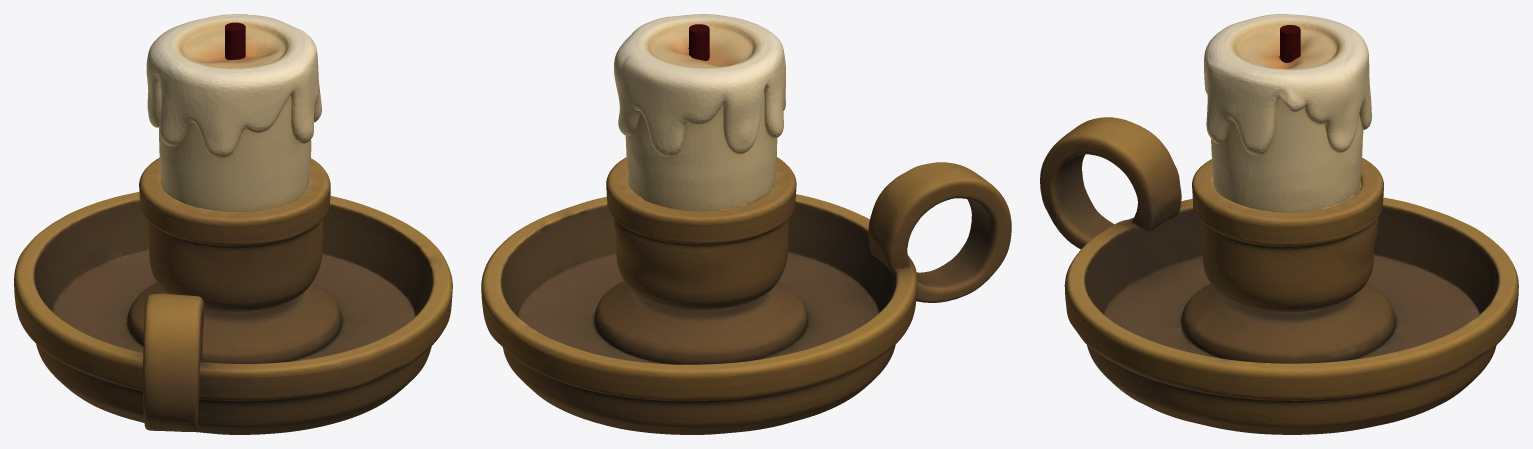
The model's file is candle_1.glb.
The picture shows the model from 3 angles, left to right: view 1: azimuth 30°, elevation 25°; view 2: azimuth 150°, elevation 25°; view 3: azimuth 270°, elevation 25°; orthographic projection.
Parts seen in each view (by area): view 1: tripo_node_827dab2d-647c-4c2d-b42d-5c8c5f177856, Cylinder.002; view 2: tripo_node_827dab2d-647c-4c2d-b42d-5c8c5f177856, Cylinder.002; view 3: tripo_node_827dab2d-647c-4c2d-b42d-5c8c5f177856, Cylinder.002.
Boxes of the visible parts, x1=… form: tripo_node_827dab2d-647c-4c2d-b42d-5c8c5f177856: x1=14, y1=14, x2=452, y2=434; Cylinder.002: x1=225, y1=22, x2=245, y2=59; tripo_node_827dab2d-647c-4c2d-b42d-5c8c5f177856: x1=481, y1=14, x2=1011, y2=434; Cylinder.002: x1=689, y1=24, x2=709, y2=60; tripo_node_827dab2d-647c-4c2d-b42d-5c8c5f177856: x1=1040, y1=14, x2=1518, y2=434; Cylinder.002: x1=1280, y1=25, x2=1300, y2=62.
Bounding box in the file's own units: 0.9217 × 0.7526 × 0.978.
Materials: 2 (1 with a texture image).
